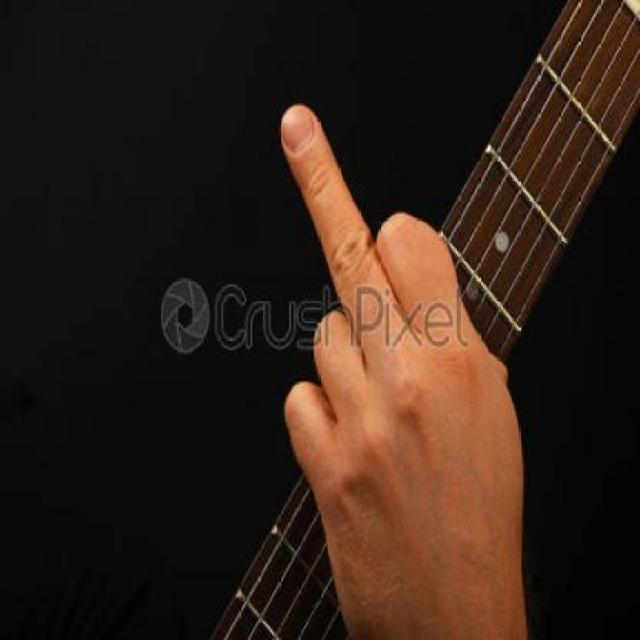no_apron: (228, 76, 535, 558)
